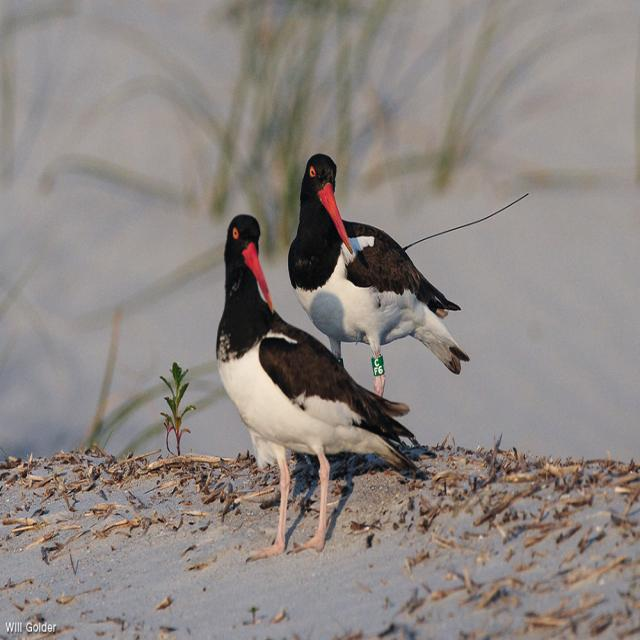bird: (215, 214, 423, 562), (280, 159, 473, 415)
